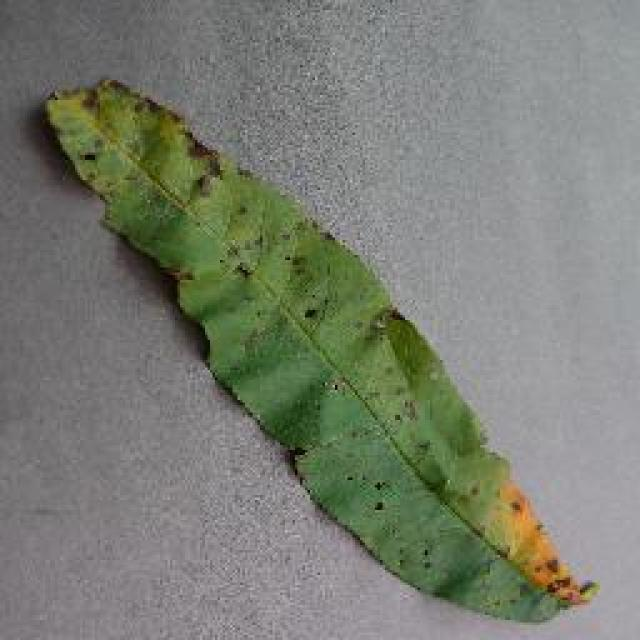Peach_Bacterial_Spot: (143, 91, 500, 502)
